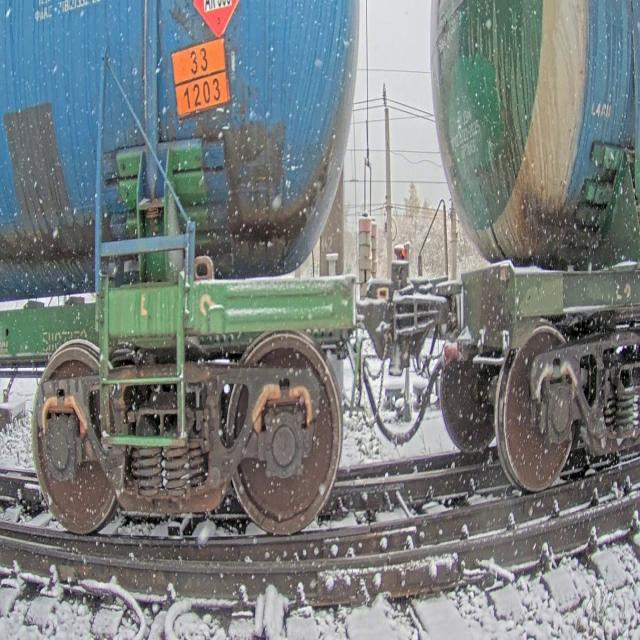tank: (0, 0, 368, 557), (416, 0, 640, 514)
